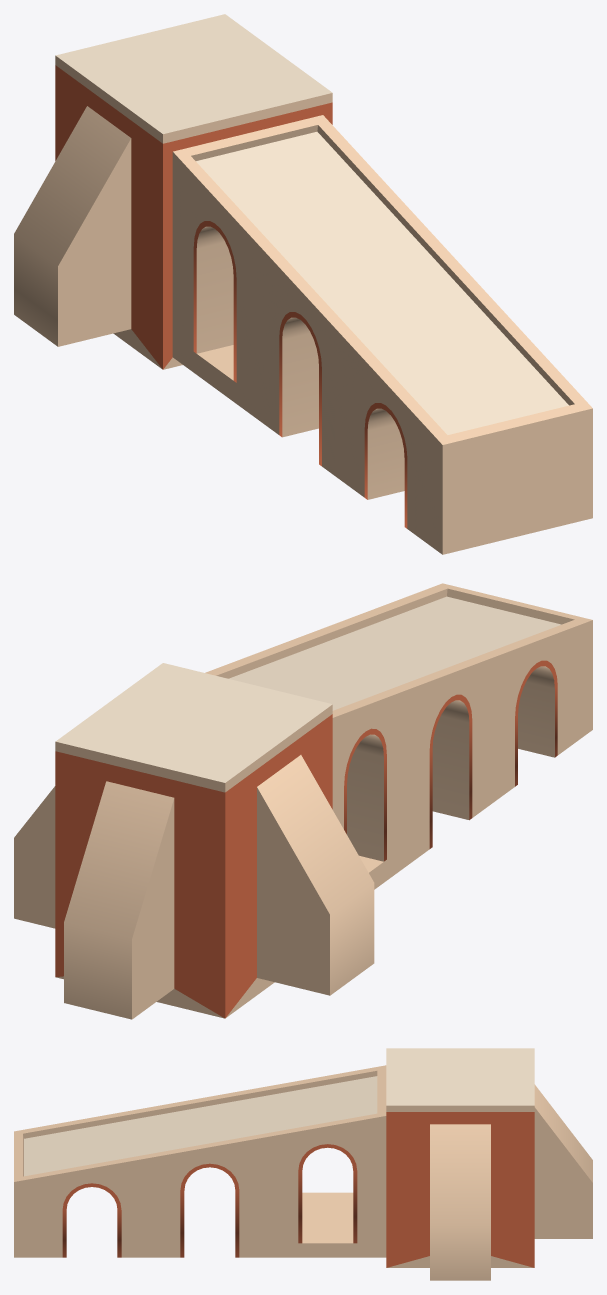
File: spawn_ramp.fbx
3 renders of one model, top to bottom at view 1: azimuth 30°, elevation 25°; view 2: azimuth 150°, elevation 25°; view 3: azimuth 270°, elevation 25°, orthographic. The views are drawn at different scales.
Visible parts, largest first — view 1: Cube; view 2: Cube; view 3: Cube.
Boxes of the visible parts, left/top/right/bottom form: Cube: left=14, top=14, right=592, bottom=554; Cube: left=14, top=583, right=592, bottom=1019; Cube: left=14, top=1048, right=592, bottom=1280.
Bounding box in the file's own units: 2327 × 1657 × 5351.
